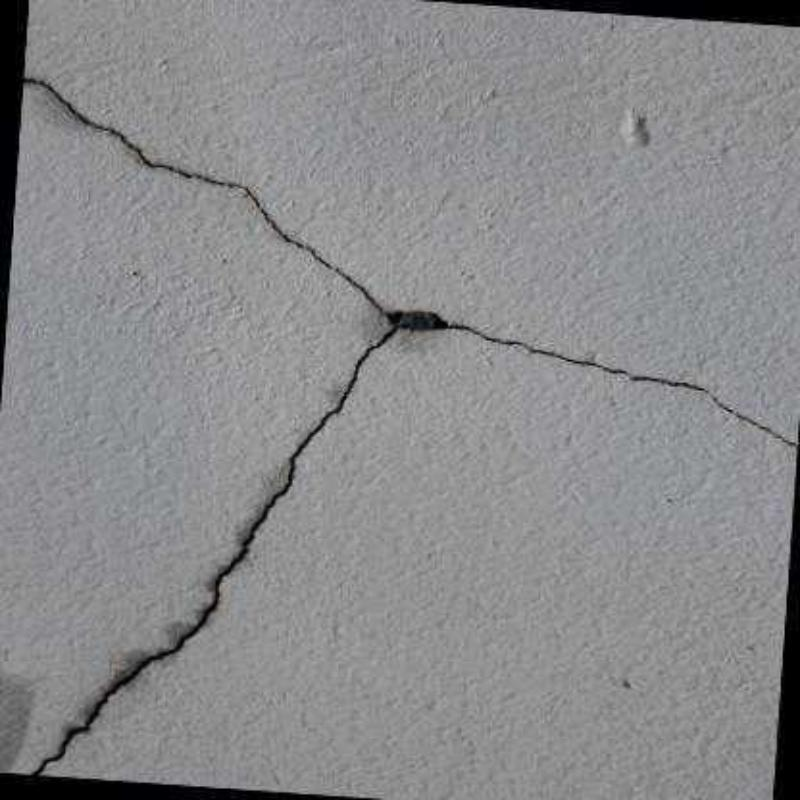pothole: (21, 75, 798, 776)
